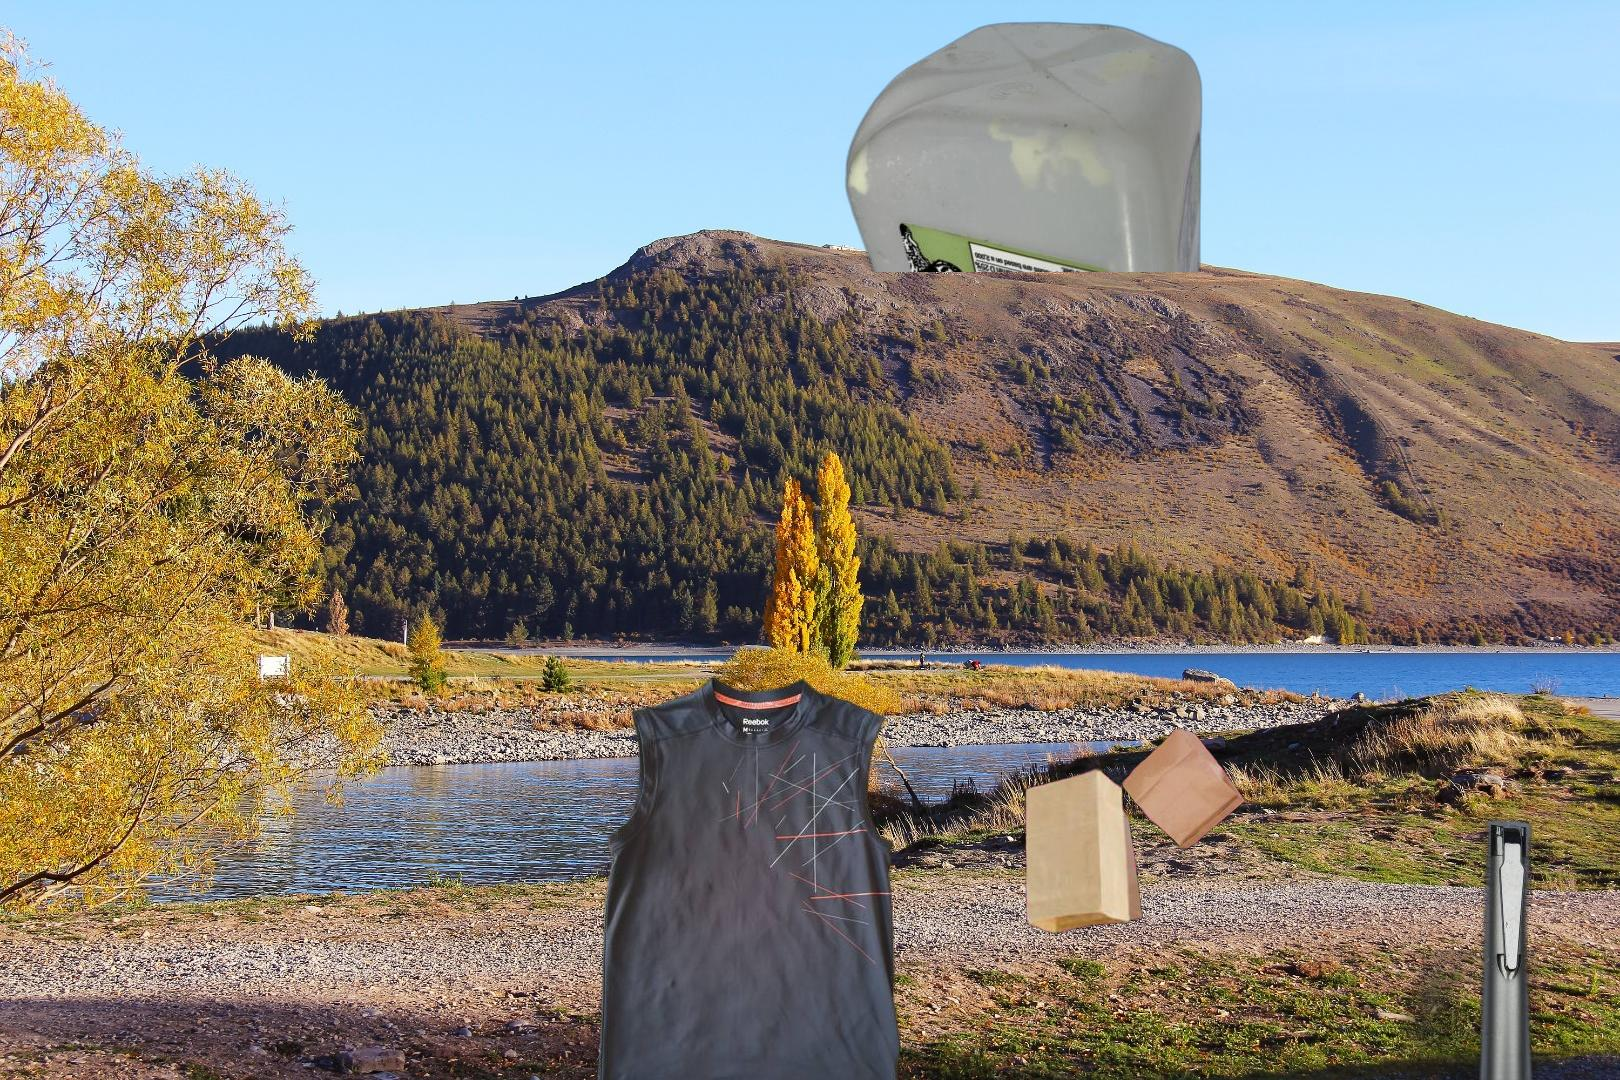clothes: (554, 673, 906, 1080)
paper-bag: (1022, 726, 1248, 937)
penholder: (1473, 817, 1539, 1080)
plastic-bottles: (841, 20, 1205, 272)
trashbox-cardboard: (1026, 950, 1538, 1080)
